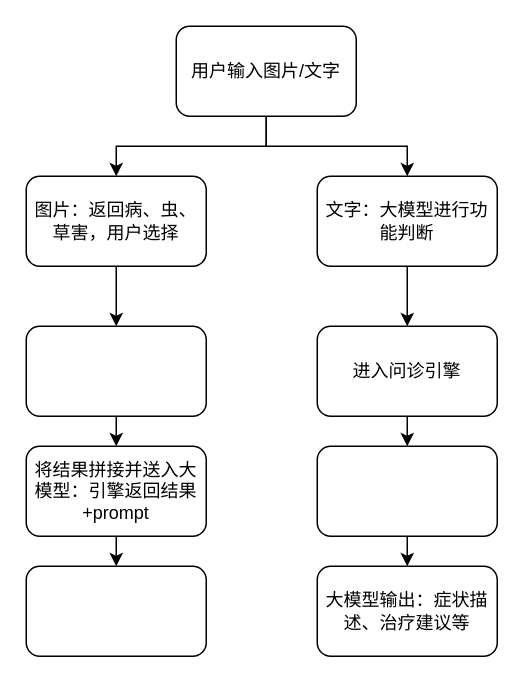
The diagram is 524 pixels wide and 683 high, and some of its shapes have lost their labels. The shapes that lost their labels are listed below. From the top down, each one's centre as x and y in pixels, then its label:
the point at 115,370: 根据选择将图片送入对应引擎
the point at 406,490: 筛选疑似患病集合：大模型+向量匹配
the point at 115,610: 大模型+RAG返回诊断结果+防治方法
